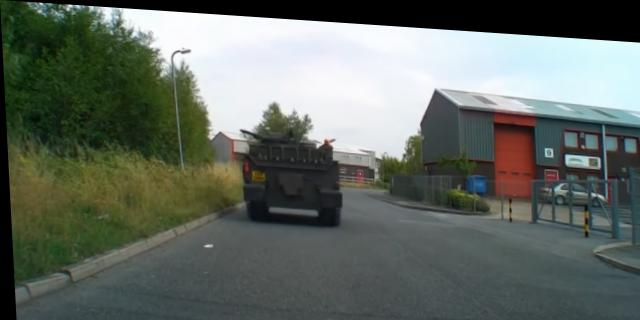tank: (239, 134, 338, 223)
